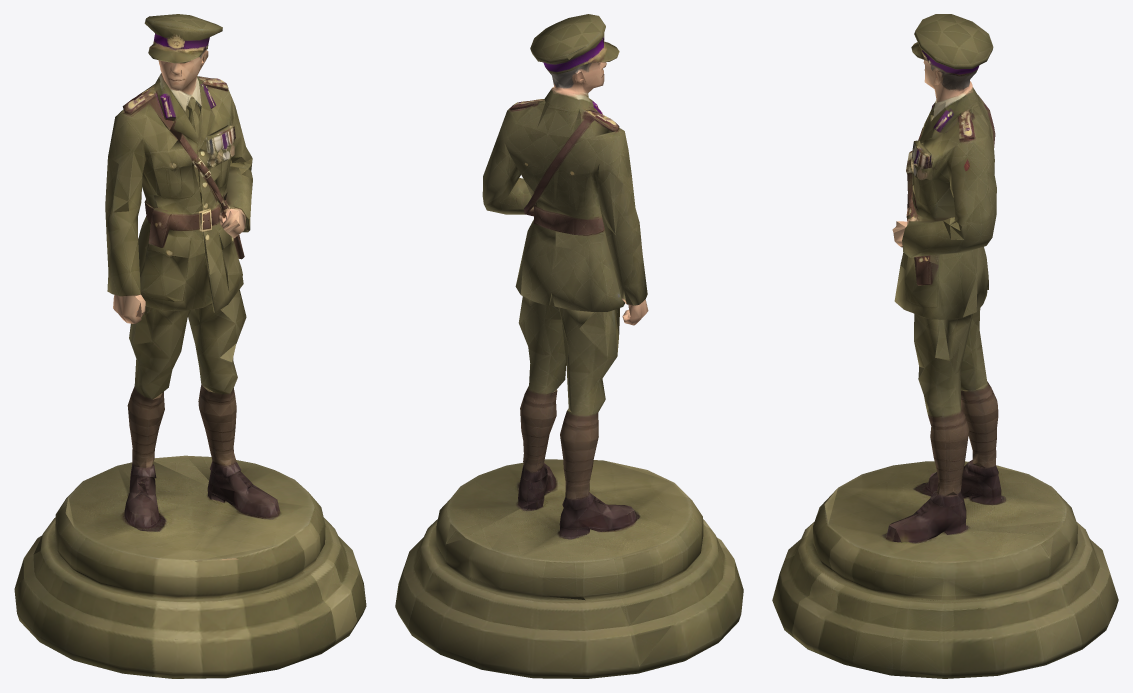
The model's file is anzac_queen.glb.
3 renders of one model, left to right at view 1: azimuth 30°, elevation 25°; view 2: azimuth 150°, elevation 25°; view 3: azimuth 270°, elevation 25°, orthographic. The views are drawn at different scales.
Size of the model in its own units: 1.08 by 2 by 1.08.
1 material, 1 textured.
